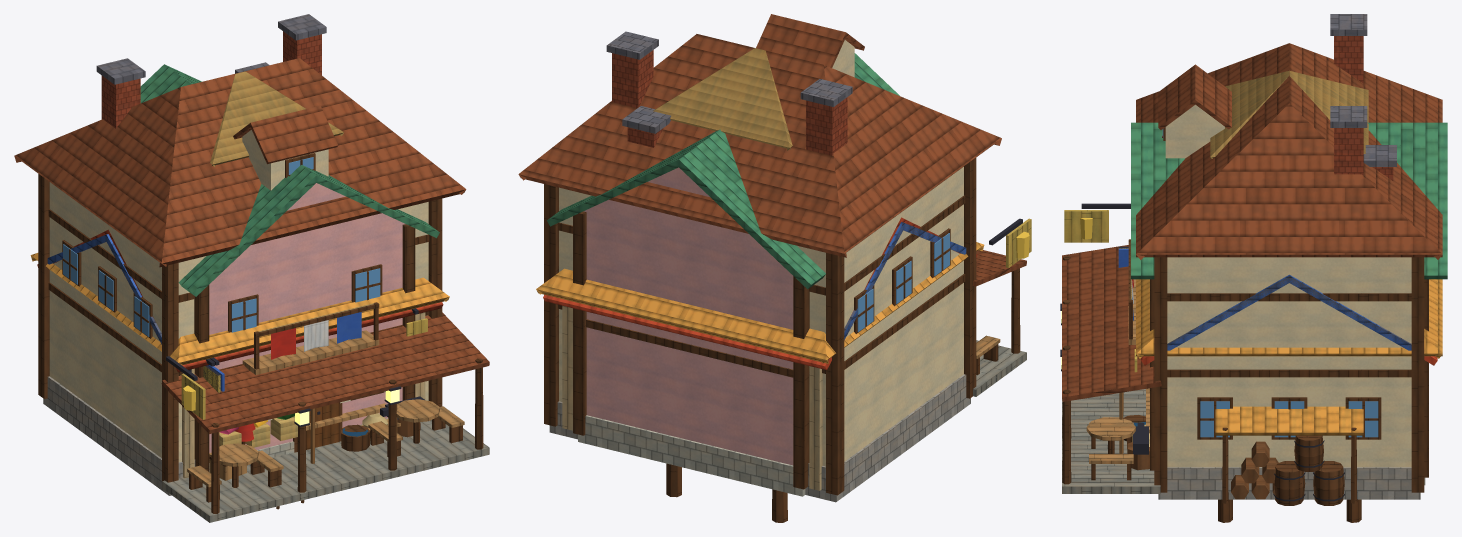
The model's file is town.glb.
3 views of the same model, side by side, from view 1: azimuth 30°, elevation 25°; view 2: azimuth 150°, elevation 25°; view 3: azimuth 270°, elevation 25° (orthographic). The views are drawn at different scales.
Parts seen in each view (by area): view 1: TownTavern, TownHouse_B, TownHouse_C, Watchtower, TownHouse_A, ShopGeneral, ShopSmith, ShopTailor; view 2: TownTavern, TownHouse_B, TownHouse_C, Watchtower, TownHouse_A, ShopGeneral, Dock, ShopSmith; view 3: TownTavern, TownHouse_C, TownHouse_B, Watchtower, ShopSmith, ShopGeneral, DockEnd, ShopTailor.
Part boxes in pixels (box(x1,y1,x2,y2)): TownTavern: box(14, 14, 489, 522); TownHouse_B: box(140, 62, 439, 471); TownHouse_C: box(30, 253, 449, 478); Watchtower: box(210, 71, 343, 166); TownHouse_A: box(37, 229, 443, 447); ShopGeneral: box(47, 234, 427, 480); ShopSmith: box(51, 238, 424, 463); ShopTailor: box(208, 357, 397, 462); TownTavern: box(518, 14, 1031, 502); TownHouse_B: box(547, 53, 899, 496); TownHouse_C: box(536, 242, 984, 490); Watchtower: box(653, 48, 792, 150); TownHouse_A: box(543, 217, 977, 462); ShopGeneral: box(844, 222, 966, 339); Dock: box(666, 463, 782, 522); ShopSmith: box(844, 223, 965, 339); TownTavern: box(1060, 14, 1442, 505); TownHouse_C: box(1136, 279, 1442, 503); TownHouse_B: box(1128, 122, 1447, 485); Watchtower: box(1210, 70, 1368, 158); ShopSmith: box(1118, 246, 1411, 470); ShopGeneral: box(1118, 248, 1411, 446); DockEnd: box(1220, 499, 1358, 522); ShopTailor: box(1118, 248, 1149, 453).
Bounding box in the file's own units: 7.73 × 9.52 × 7.83.
54 materials, 40 textured.
